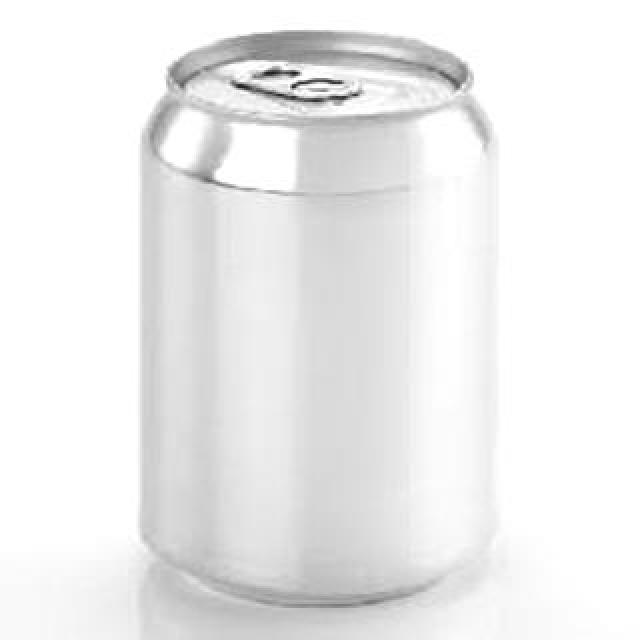Can: (99, 28, 531, 616)
